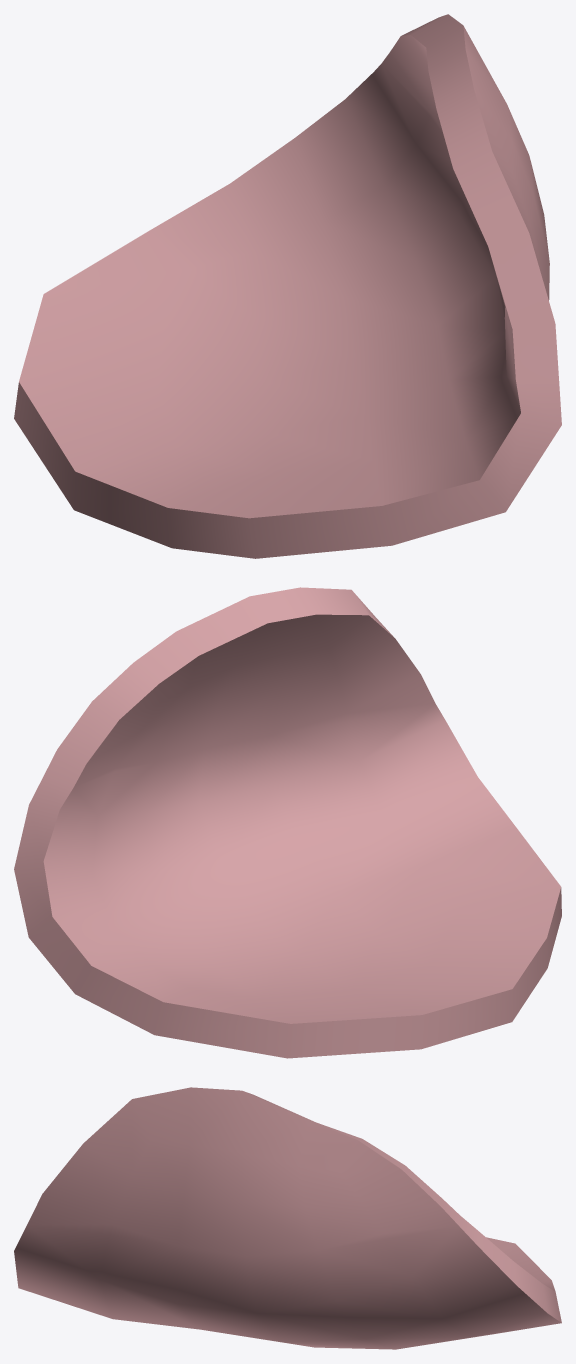
3 renders of one model, top to bottom at view 1: azimuth 30°, elevation 25°; view 2: azimuth 150°, elevation 25°; view 3: azimuth 270°, elevation 25°, orthographic. The views are drawn at different scales.
Visible parts, largest first — view 1: ZA_05b7b8d31c09cea8; view 2: ZA_05b7b8d31c09cea8; view 3: ZA_05b7b8d31c09cea8.
Part boxes in pixels (bbox=[...]): ZA_05b7b8d31c09cea8: bbox=[14, 14, 561, 558]; ZA_05b7b8d31c09cea8: bbox=[14, 587, 561, 1058]; ZA_05b7b8d31c09cea8: bbox=[14, 1087, 561, 1349].
Size of the model in its own units: 0.0369 by 0.0307 by 0.0517.
